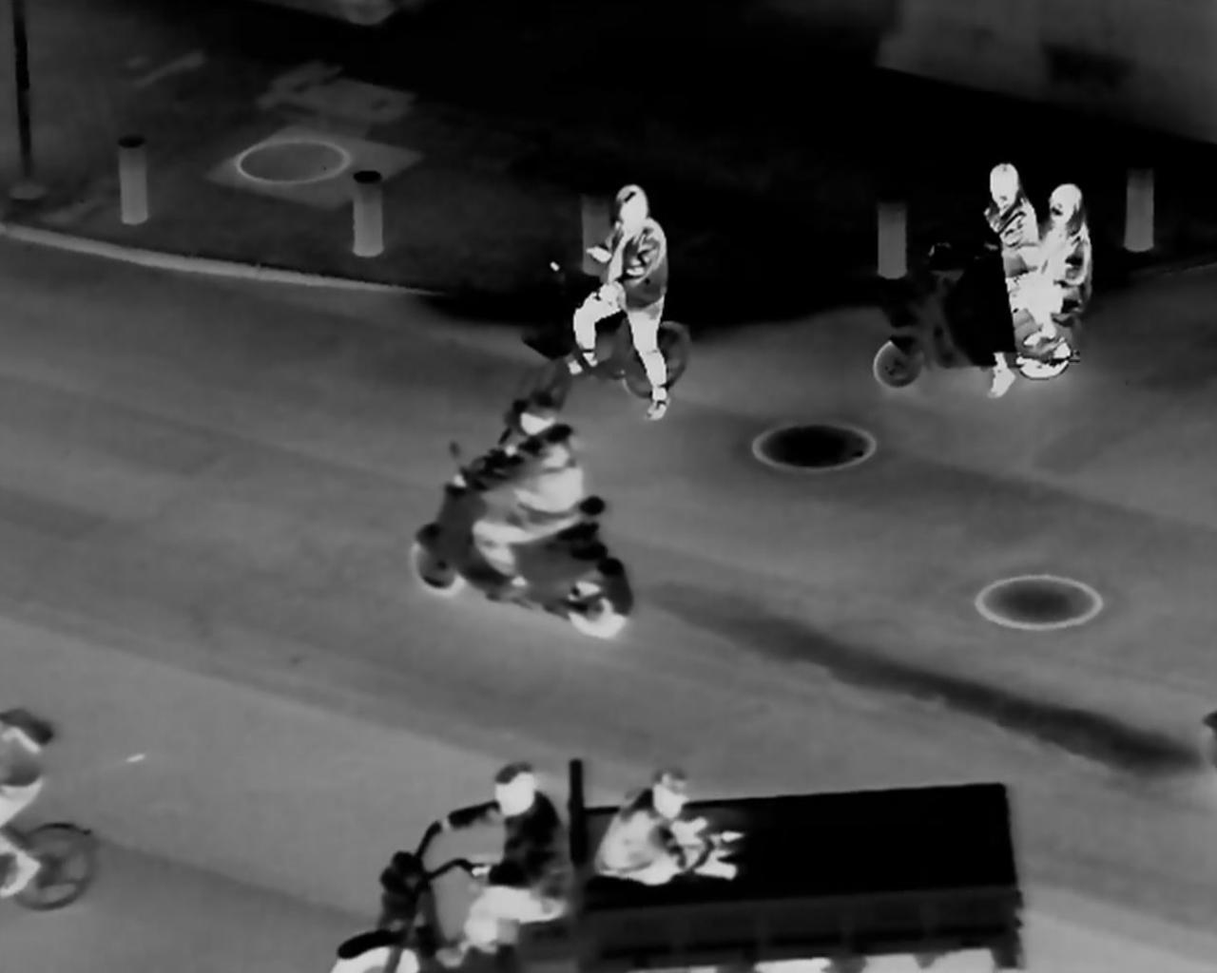person: (571, 175, 684, 424), (448, 396, 585, 573), (945, 141, 1044, 385), (451, 760, 571, 959), (602, 769, 740, 885), (3, 705, 68, 895), (1034, 178, 1093, 354)
